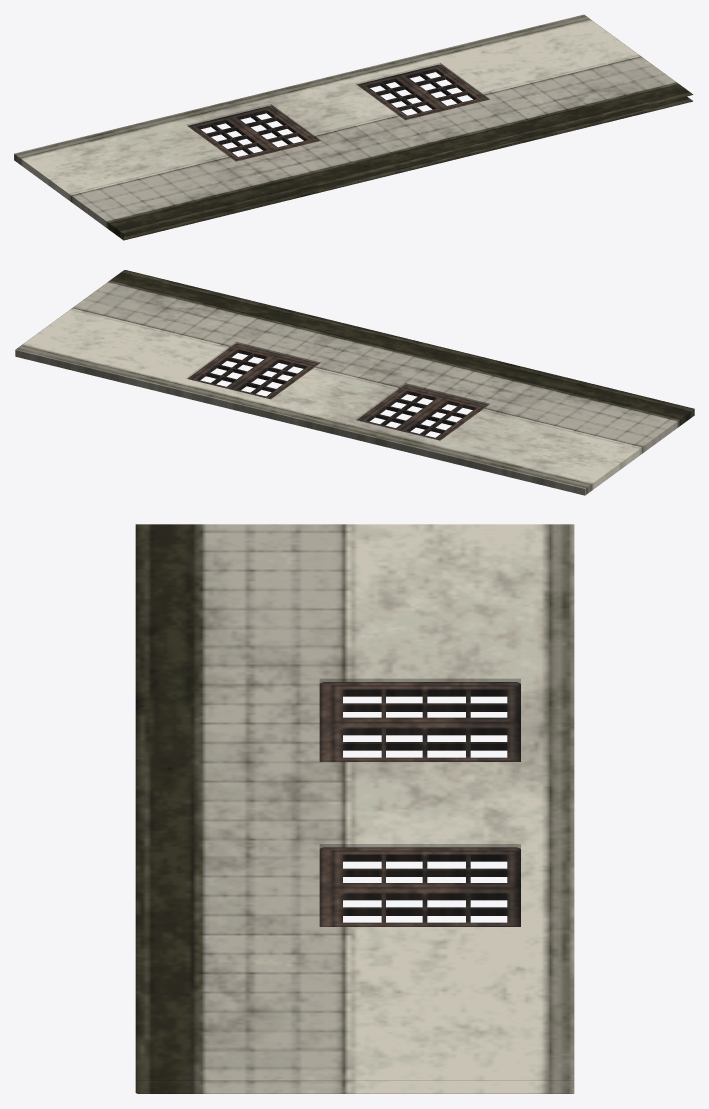
File: SM_EC_House_Wall_Window_1_9x3_3.fbx
3 renders of one model, top to bottom at view 1: azimuth 30°, elevation 25°; view 2: azimuth 150°, elevation 25°; view 3: azimuth 270°, elevation 25°, orthographic. The views are drawn at different scales.
Visible parts, largest first — view 1: SM_EC_House_Wall_Window_1_9x3_3; view 2: SM_EC_House_Wall_Window_1_9x3_3; view 3: SM_EC_House_Wall_Window_1_9x3_3.
Part boxes in pixels (x1,y1,x2,y2): SM_EC_House_Wall_Window_1_9x3_3: (14, 14, 692, 240); SM_EC_House_Wall_Window_1_9x3_3: (15, 270, 694, 495); SM_EC_House_Wall_Window_1_9x3_3: (135, 524, 574, 1093).
Size of the model in its own units: 9 by 3 by 0.1.
